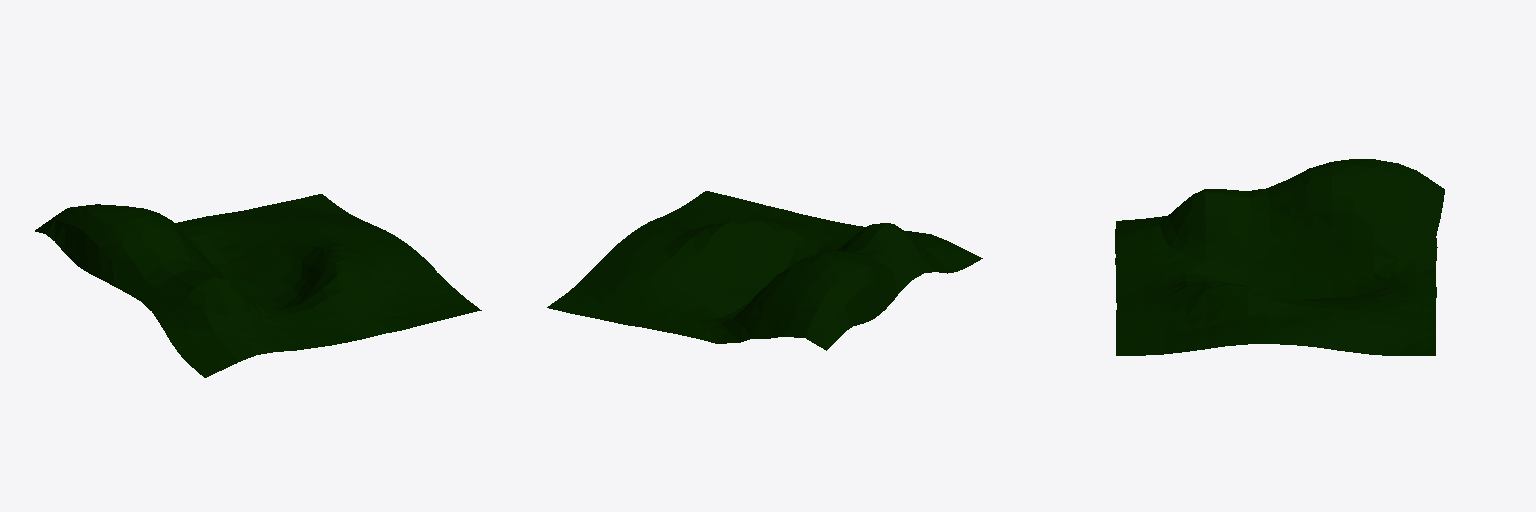
The model's file is titleScreen.obj.
3 views of the same model, side by side, from view 1: azimuth 30°, elevation 25°; view 2: azimuth 150°, elevation 25°; view 3: azimuth 270°, elevation 25° (orthographic).
Visible parts, largest first — view 1: Plane; view 2: Plane; view 3: Plane.
Boxes of the visible parts, box(x1,y1,x2,y2) form: Plane: box(35, 194, 481, 377); Plane: box(547, 191, 982, 350); Plane: box(1115, 159, 1444, 355).
Size of the model in its own units: 14.76 by 4.11 by 14.64.